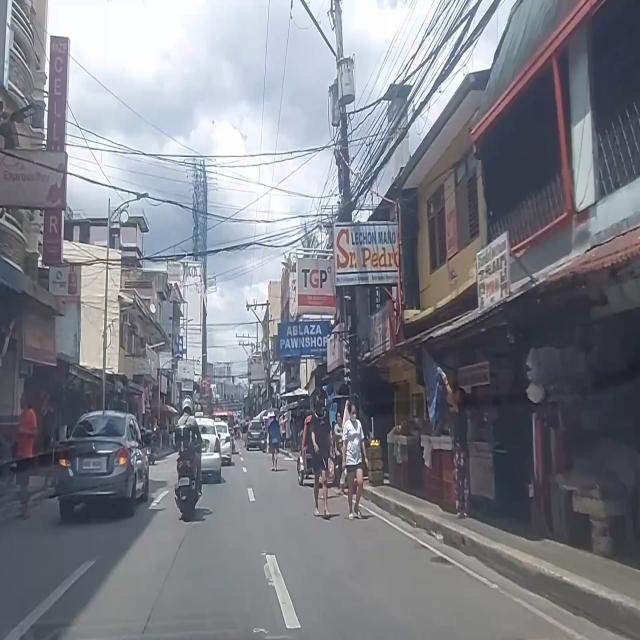car: (58, 412, 150, 518), (190, 412, 221, 482), (213, 418, 232, 464), (244, 420, 264, 451)
jeepney: (212, 411, 236, 454)
motorcycle: (172, 394, 206, 522), (142, 426, 156, 465)
tricycle: (296, 414, 314, 484), (261, 420, 273, 453)
